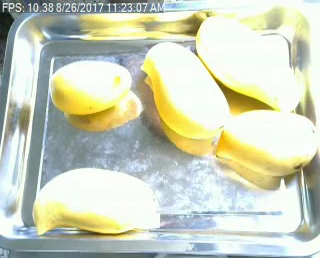Mango: (194, 15, 301, 114), (33, 169, 156, 235), (145, 41, 228, 137), (219, 110, 319, 178), (49, 60, 129, 114)
